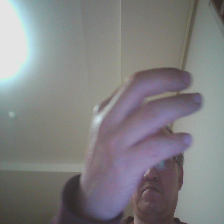hand: (79, 59, 202, 219)
